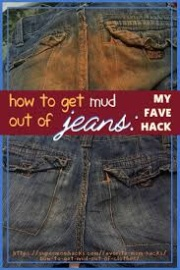earth: (37, 43, 138, 87)
